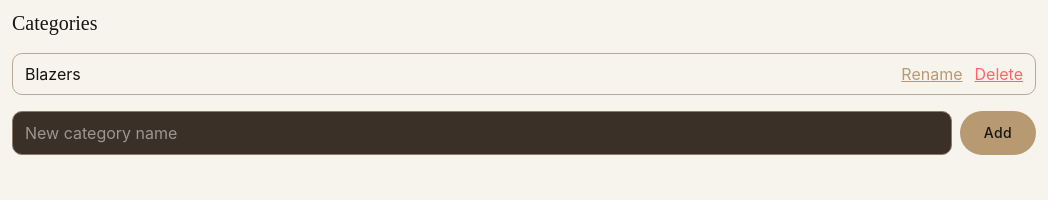
Scenario: AdminCategoryManager › shows a friendly error when deleting a category still in use
Expected: the text "Blazers" is shown, [25,64,81,84]
What coordinates should you click on to do the following:
click the button "Delete"
I would click on:
 (999, 74)
Its box is [974,62,1023,86].
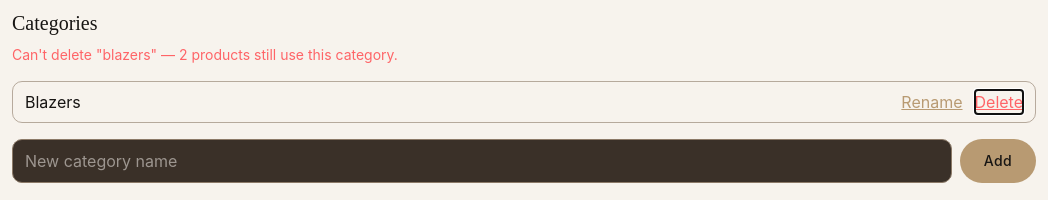
Expected: the message shows "2 products still use this category", [12,46,398,63]
